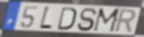5: (19, 6, 38, 30)
D: (57, 6, 78, 31)
L: (38, 5, 54, 31)
M: (91, 8, 122, 34)
R: (113, 9, 137, 35)
S: (76, 8, 98, 33)
